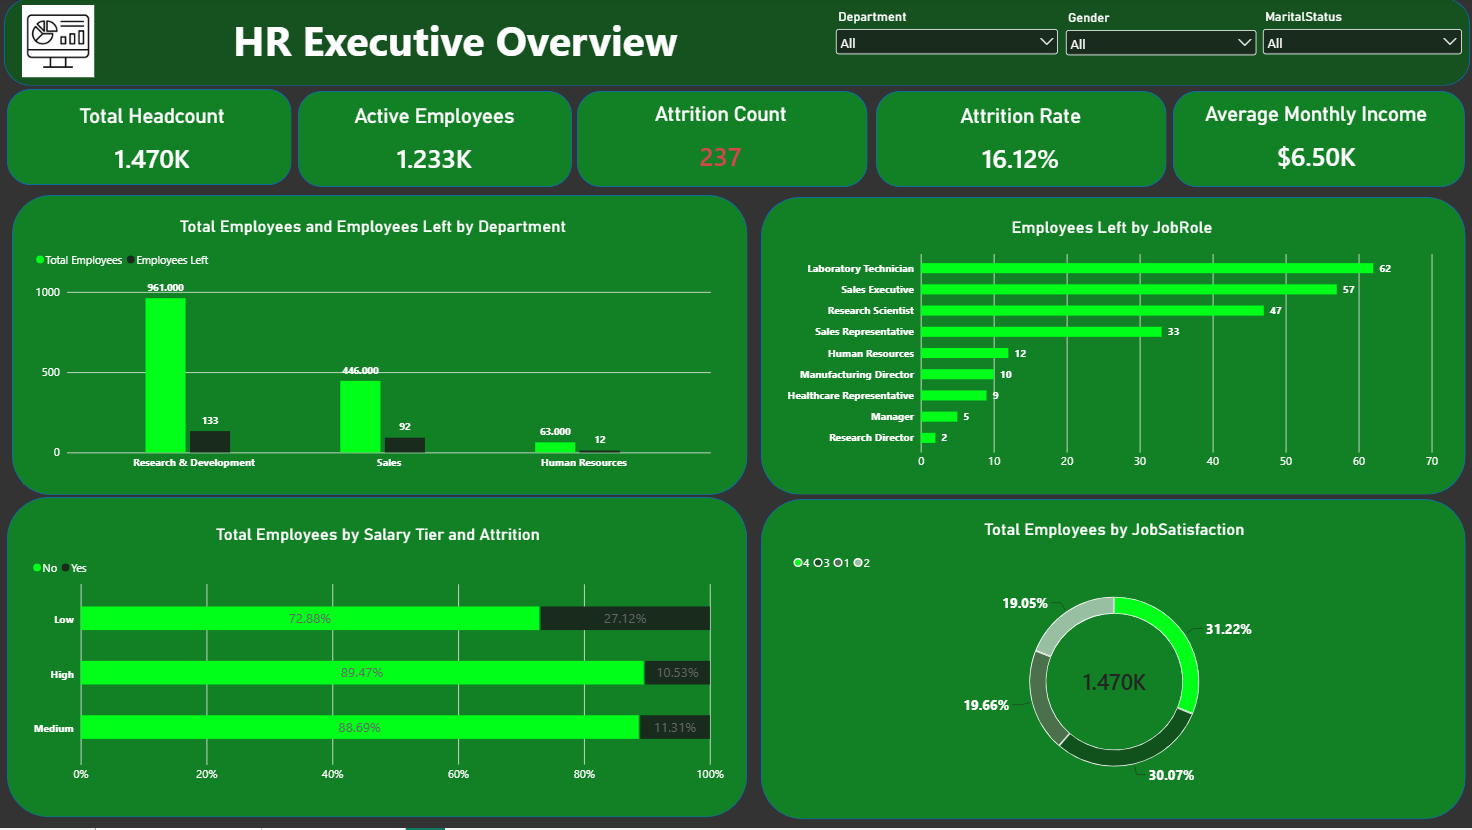

The page's visual inventory and layout, read from the dashboard file:
{"tool":"powerbi","page":{"name":"HR Executive Overview","canvas":[1920,1080],"ordinal":0},"visuals":[{"type":"shape","box":[7.7,0,1907.7,114.2],"z":0},{"type":"shape","box":[12.3,118.8,370.4,125],"z":1000},{"type":"shape","box":[390.5,120.4,356.5,125],"z":2000},{"type":"shape","box":[1142.1,120.4,378.1,125],"z":3000},{"type":"shape","box":[1529.5,120.4,379.7,125],"z":4000},{"type":"shape","box":[753.2,120.4,378.1,125],"z":5000},{"type":"cardVisual","title":"Total Headcount","fields":{"Data":["WA_Fn-UseC_-HR-Employee-Attriti.Total Employees"]},"box":[29.3,137.4,341.1,91.1],"z":6000},{"type":"cardVisual","title":"Active Employees","fields":{"Data":["WA_Fn-UseC_-HR-Employee-Attriti.Employees Stayed"]},"box":[402.8,137.4,328.7,91.1],"z":7000},{"type":"cardVisual","title":"Attrition Count","fields":{"Data":["WA_Fn-UseC_-HR-Employee-Attriti.Employees Left"]},"box":[773.2,135.8,334.9,91.1],"z":8000},{"type":"cardVisual","title":"Attrition Rate","fields":{"Data":["WA_Fn-UseC_-HR-Employee-Attriti.Attrition Rate"]},"box":[1156,137.4,350.4,91.1],"z":9000},{"type":"cardVisual","title":"Average Monthly Income","fields":{"Data":["WA_Fn-UseC_-HR-Employee-Attriti.Avg Monthly Income"]},"box":[1545,135.8,341.1,91.1],"z":10000},{"type":"textbox","box":[305.6,17,581.9,80.3],"z":11000},{"type":"shape","box":[18.5,256.2,956.9,390.5],"z":12000},{"type":"shape","box":[992.4,259.3,916.8,387.4],"z":13000},{"type":"clusteredColumnChart","fields":{"Category":["WA_Fn-UseC_-HR-Employee-Attriti.Department"],"Y":["WA_Fn-UseC_-HR-Employee-Attriti.Total Employees","WA_Fn-UseC_-HR-Employee-Attriti.Employees Left"]},"box":[32.4,270.1,910.6,362.7],"z":14000},{"type":"clusteredBarChart","fields":{"Category":["WA_Fn-UseC_-HR-Employee-Attriti.JobRole"],"Y":["WA_Fn-UseC_-HR-Employee-Attriti.Employees Left"]},"box":[1009.4,271.6,879.7,362.7],"z":15000},{"type":"shape","box":[12.3,649.8,963.1,416.7],"z":16000},{"type":"shape","box":[992.4,651.3,916.8,416.7],"z":17000},{"type":"donutChart","fields":{"Category":["WA_Fn-UseC_-HR-Employee-Attriti.JobSatisfaction"],"Y":["WA_Fn-UseC_-HR-Employee-Attriti.Total Employees"]},"box":[1018.6,665.2,867.4,381.2],"z":18000},{"type":"hundredPercentStackedBarChart","fields":{"Y":["WA_Fn-UseC_-HR-Employee-Attriti.Total Employees"],"Category":["WA_Fn-UseC_-HR-Employee-Attriti.Salary Tier"],"Series":["WA_Fn-UseC_-HR-Employee-Attriti.Attrition"]},"box":[28.6,671.4,931.7,369.5],"z":19000},{"type":"slicer","fields":{"Values":["WA_Fn-UseC_-HR-Employee-Attriti.Department"]},"box":[1085,13.9,299.4,71],"z":20000},{"type":"slicer","fields":{"Values":["WA_Fn-UseC_-HR-Employee-Attriti.Gender"]},"box":[1384.4,15.4,257.7,71],"z":21000},{"type":"slicer","fields":{"Values":["WA_Fn-UseC_-HR-Employee-Attriti.MaritalStatus"]},"box":[1640.6,13.9,268.6,71],"z":22000},{"type":"image","box":[18.5,9.3,120.4,94.1],"z":23000}]}

Visuals, with their boxes in screenshot pixels (x1, y1, x2, y2), scaled from the page's 1920x1080 canvas onto the 1472x830 screenshot:
shape: pyautogui.locateOnScreen(6, 0, 1468, 88)
shape: pyautogui.locateOnScreen(9, 91, 293, 187)
shape: pyautogui.locateOnScreen(299, 93, 573, 189)
shape: pyautogui.locateOnScreen(876, 93, 1165, 189)
shape: pyautogui.locateOnScreen(1173, 93, 1464, 189)
shape: pyautogui.locateOnScreen(577, 93, 867, 189)
"Total Headcount" cardVisual: pyautogui.locateOnScreen(22, 106, 284, 176)
"Active Employees" cardVisual: pyautogui.locateOnScreen(309, 106, 561, 176)
"Attrition Count" cardVisual: pyautogui.locateOnScreen(593, 104, 850, 174)
"Attrition Rate" cardVisual: pyautogui.locateOnScreen(886, 106, 1155, 176)
"Average Monthly Income" cardVisual: pyautogui.locateOnScreen(1184, 104, 1446, 174)
textbox: pyautogui.locateOnScreen(234, 13, 680, 75)
shape: pyautogui.locateOnScreen(14, 197, 748, 497)
shape: pyautogui.locateOnScreen(761, 199, 1464, 497)
clusteredColumnChart - WA_Fn-UseC_-HR-Employee-Attriti.Department x WA_Fn-UseC_-HR-Employee-Attriti.Total Employees: pyautogui.locateOnScreen(25, 208, 723, 486)
clusteredBarChart - WA_Fn-UseC_-HR-Employee-Attriti.JobRole x WA_Fn-UseC_-HR-Employee-Attriti.Employees Left: pyautogui.locateOnScreen(774, 209, 1448, 487)
shape: pyautogui.locateOnScreen(9, 499, 748, 820)
shape: pyautogui.locateOnScreen(761, 501, 1464, 821)
donutChart - WA_Fn-UseC_-HR-Employee-Attriti.JobSatisfaction x WA_Fn-UseC_-HR-Employee-Attriti.Total Employees: pyautogui.locateOnScreen(781, 511, 1446, 804)
hundredPercentStackedBarChart - WA_Fn-UseC_-HR-Employee-Attriti.Total Employees x WA_Fn-UseC_-HR-Employee-Attriti.Salary Tier: pyautogui.locateOnScreen(22, 516, 736, 800)
slicer - WA_Fn-UseC_-HR-Employee-Attriti.Department: pyautogui.locateOnScreen(832, 11, 1061, 65)
slicer - WA_Fn-UseC_-HR-Employee-Attriti.Gender: pyautogui.locateOnScreen(1061, 12, 1259, 66)
slicer - WA_Fn-UseC_-HR-Employee-Attriti.MaritalStatus: pyautogui.locateOnScreen(1258, 11, 1464, 65)
image: pyautogui.locateOnScreen(14, 7, 106, 79)
